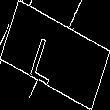L_NE: (37, 26, 73, 84)
